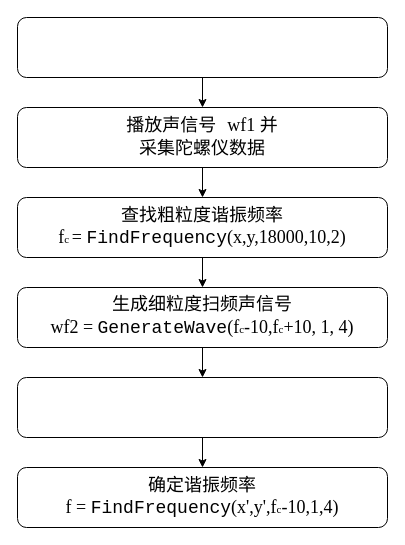
Some shapes in this 405 by 545 pixel diagram are drawn without their labels. Each missing label, with the box of its shape:
播放声信号 wf2 并 采集陀螺仪数据: (16, 376, 388, 438)
生成粗粒度扫频声信号 wf1 = GenerateWave (18000, 30000, 10, 2): (16, 16, 388, 78)
